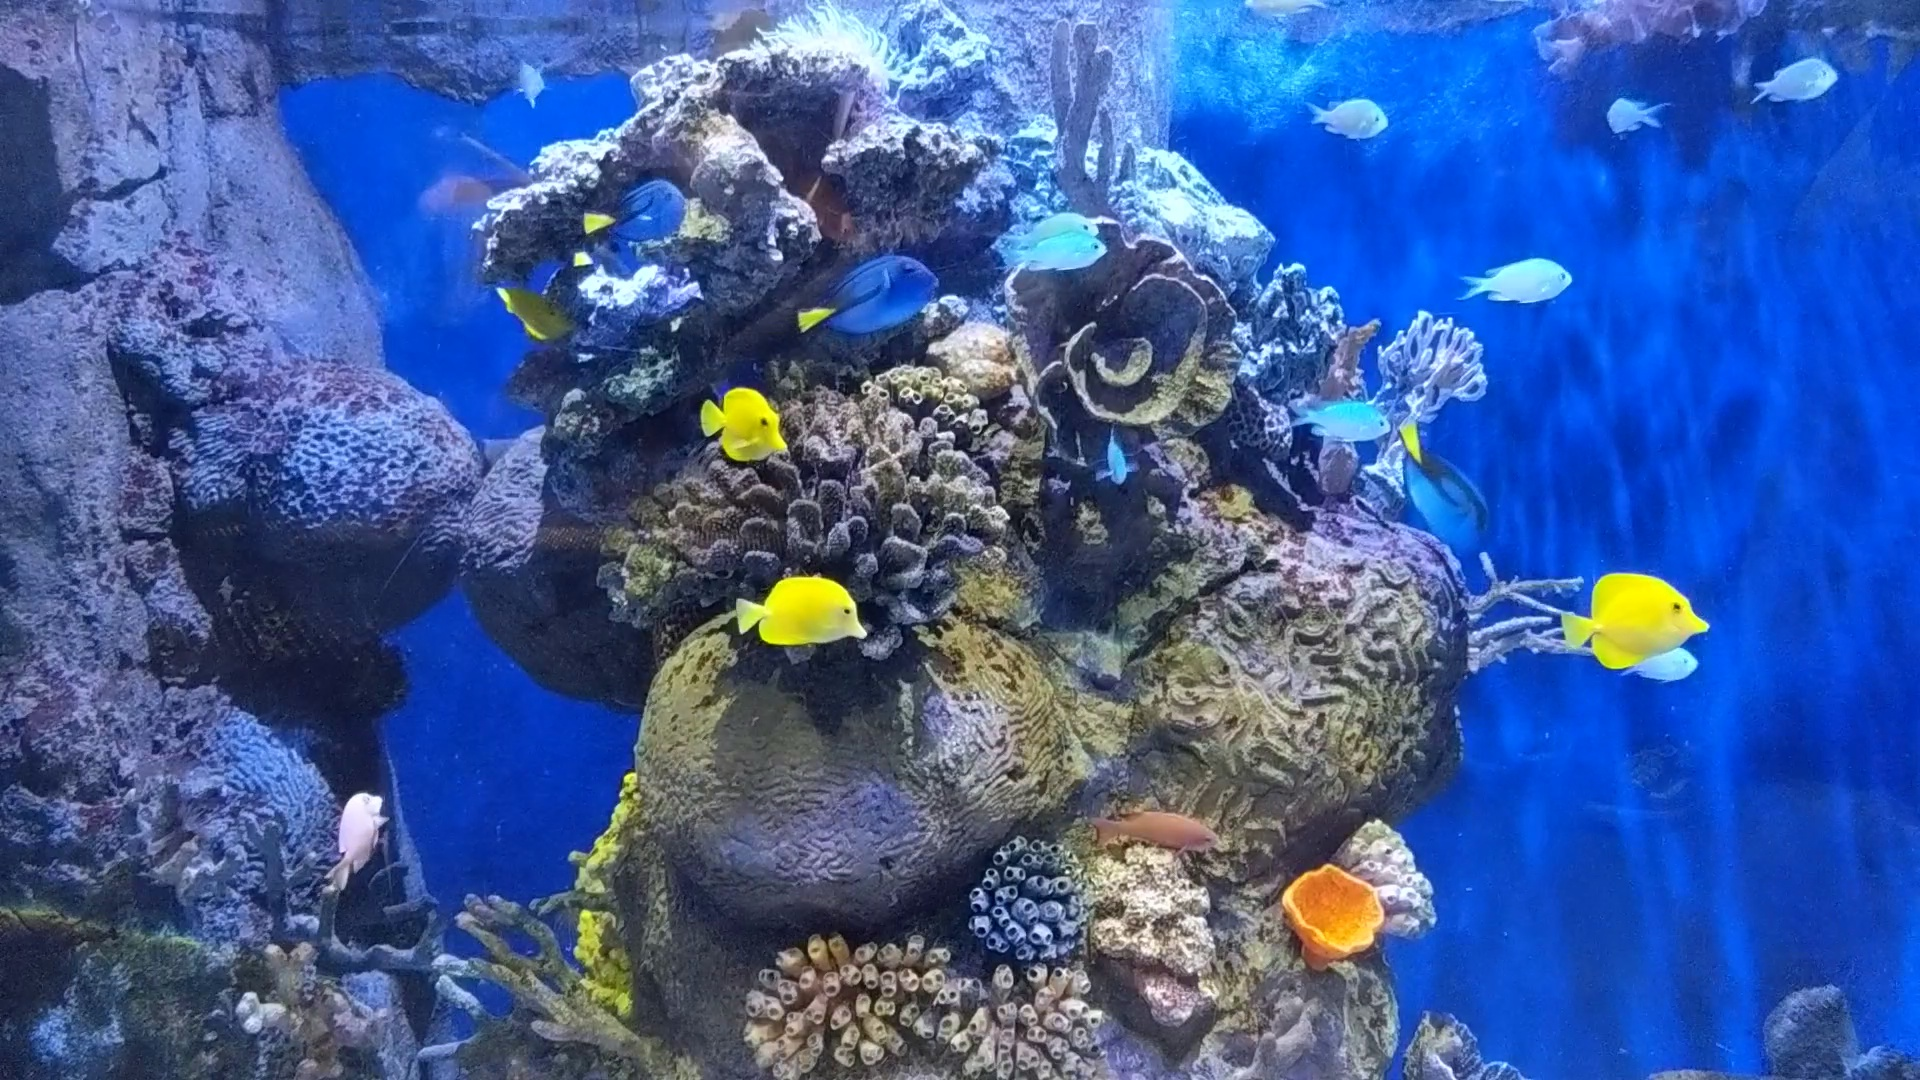blue tang surgeonfish: (1399, 410, 1498, 566), (798, 249, 936, 348), (578, 167, 684, 244)
damselfish: (1452, 252, 1578, 313), (981, 202, 1105, 261), (1284, 381, 1393, 443), (994, 225, 1120, 272), (1619, 628, 1706, 694), (1749, 51, 1840, 113), (1303, 94, 1390, 153), (1592, 90, 1675, 140), (1098, 418, 1135, 495), (513, 49, 551, 113), (1244, 0, 1346, 22)
saddle butterfly fish: (1559, 572, 1710, 670), (724, 571, 872, 650), (700, 381, 793, 469), (491, 280, 588, 345)
